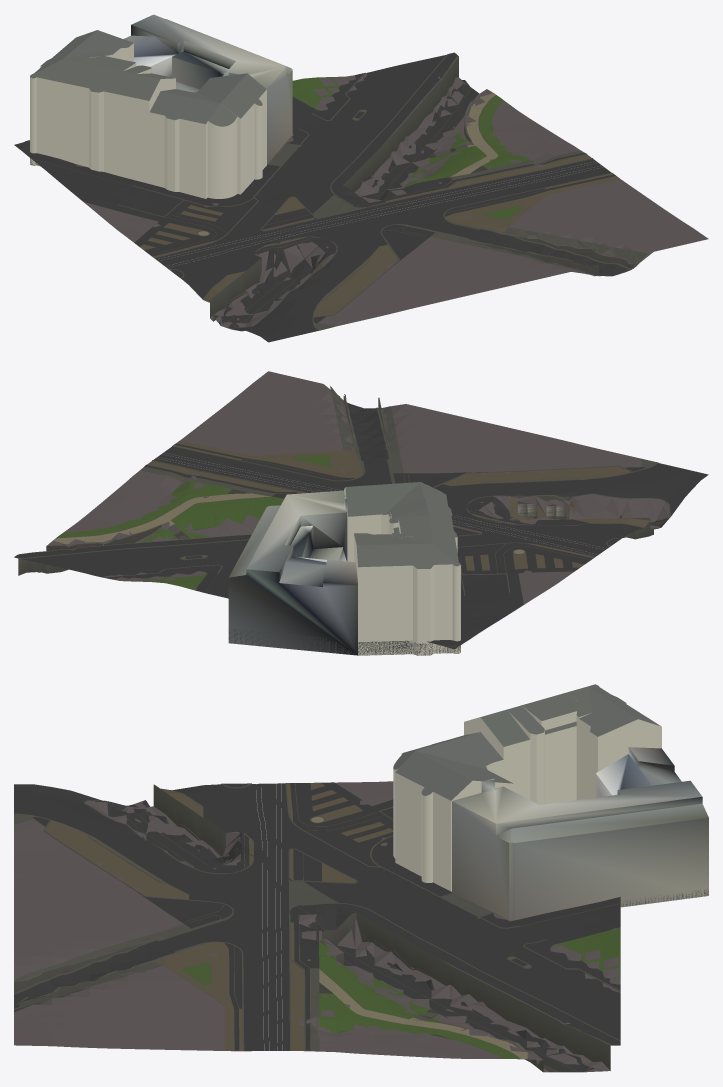
3 views of the same model, one above another, from view 1: azimuth 30°, elevation 25°; view 2: azimuth 150°, elevation 25°; view 3: azimuth 270°, elevation 25° (orthographic). The views are drawn at different scales.
Parts seen in each view (by area): view 1: c_m09_m02; view 2: c_m09_m02; view 3: c_m09_m02.
Part boxes in pixels (x1,y1,x2,y2): c_m09_m02: (14,14,708,342); c_m09_m02: (14,371,708,655); c_m09_m02: (14,684,708,1072).
Bounding box in the file's own units: 128 × 34.92 × 147.
